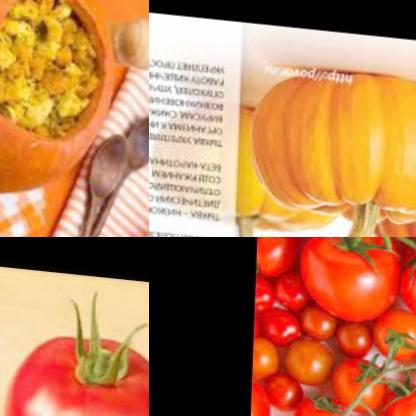pumpkin: (244, 47, 416, 235), (0, 0, 128, 201), (232, 105, 345, 237), (369, 133, 416, 237)
tomato: (0, 302, 149, 416), (302, 237, 406, 322), (284, 327, 342, 387), (337, 347, 389, 408), (273, 267, 322, 312), (379, 297, 416, 356), (258, 237, 306, 277), (267, 366, 309, 411), (294, 387, 355, 416), (296, 299, 340, 339), (334, 314, 374, 355), (264, 303, 307, 339), (397, 237, 416, 314), (253, 370, 282, 416), (386, 372, 416, 416), (256, 333, 287, 374), (342, 400, 404, 416), (257, 273, 279, 311)
